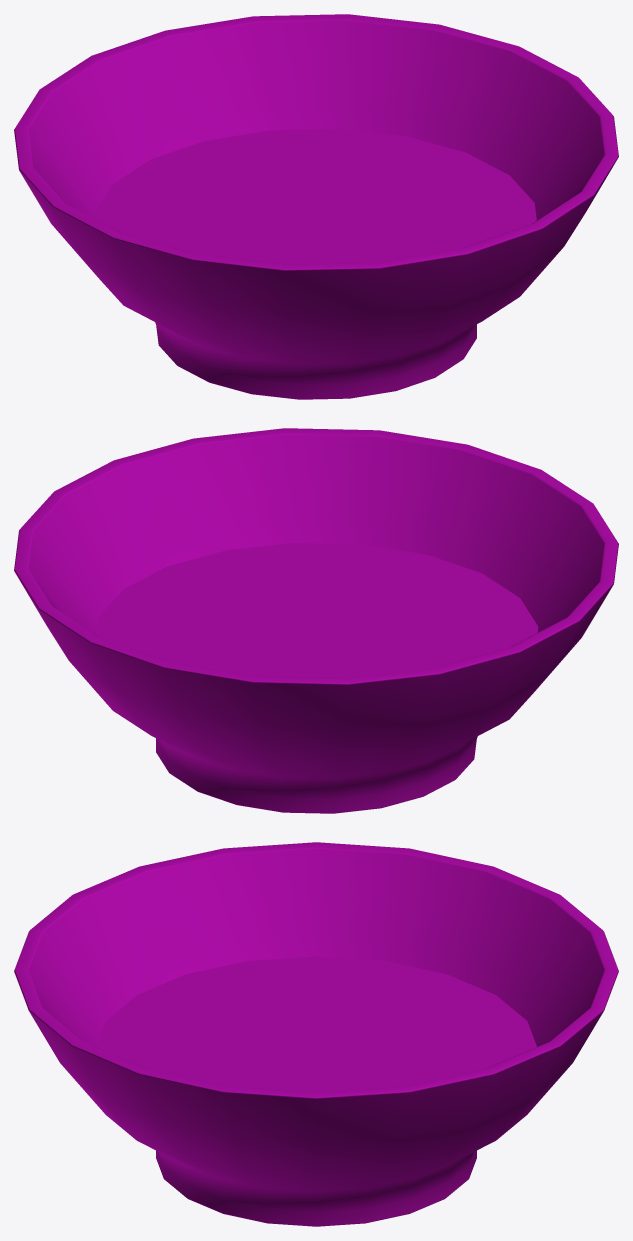
File: Punch Bowl.fbx
3 renders of one model, top to bottom at view 1: azimuth 30°, elevation 25°; view 2: azimuth 150°, elevation 25°; view 3: azimuth 270°, elevation 25°, orthographic.
Visible parts, largest first — view 1: Punch_B_2, Punch_B_1; view 2: Punch_B_2, Punch_B_1; view 3: Punch_B_2, Punch_B_1.
Boxes of the visible parts, x1,y1,x2,y2 form: Punch_B_2: (14,14,618,399); Punch_B_1: (94,128,536,263); Punch_B_2: (14,428,618,813); Punch_B_1: (96,542,538,677); Punch_B_2: (14,842,618,1226); Punch_B_1: (96,956,536,1091).
Bounding box in the file's own units: 62.46 × 21.66 × 62.46.
